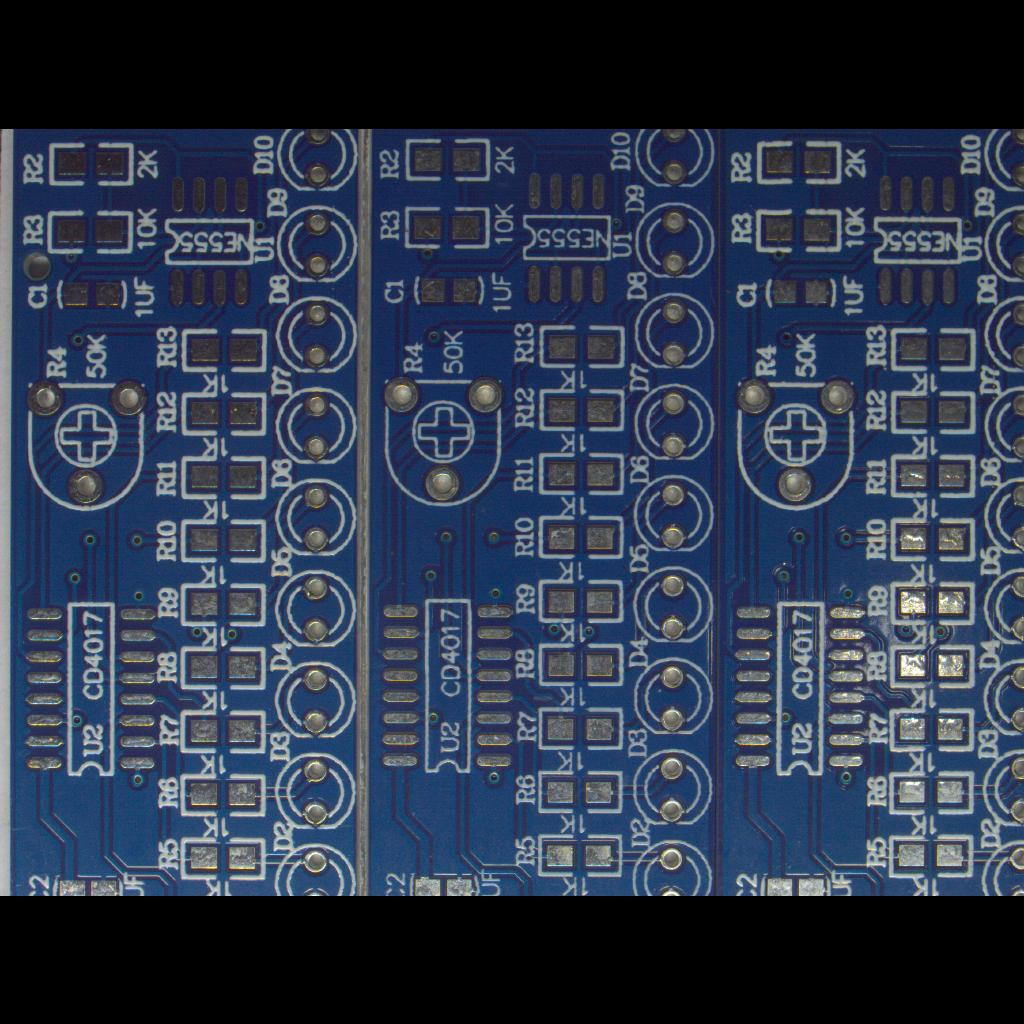NG: (14, 594, 168, 788), (374, 587, 526, 783), (721, 596, 873, 786), (159, 168, 261, 314), (868, 167, 968, 313), (520, 165, 620, 309), (532, 765, 628, 819), (885, 448, 981, 500), (44, 136, 138, 188), (178, 388, 270, 440), (178, 642, 270, 694), (888, 512, 980, 564), (401, 202, 495, 252), (887, 641, 981, 691), (177, 453, 269, 503), (176, 580, 268, 630), (177, 517, 269, 567), (886, 388, 980, 436), (177, 326, 271, 374), (402, 135, 496, 183), (536, 640, 626, 690), (536, 384, 626, 434), (534, 830, 624, 880), (536, 512, 626, 562), (176, 708, 266, 758), (886, 706, 976, 756), (754, 206, 846, 254), (754, 140, 846, 188), (534, 704, 626, 752), (884, 769, 976, 817), (537, 322, 627, 370), (406, 261, 488, 313), (46, 207, 138, 253), (177, 772, 269, 818), (888, 326, 978, 372), (886, 833, 976, 879), (536, 450, 626, 496), (178, 836, 268, 882), (760, 268, 844, 316), (48, 271, 132, 317), (539, 579, 623, 623), (888, 584, 972, 626)
OK: (887, 578, 977, 630)
